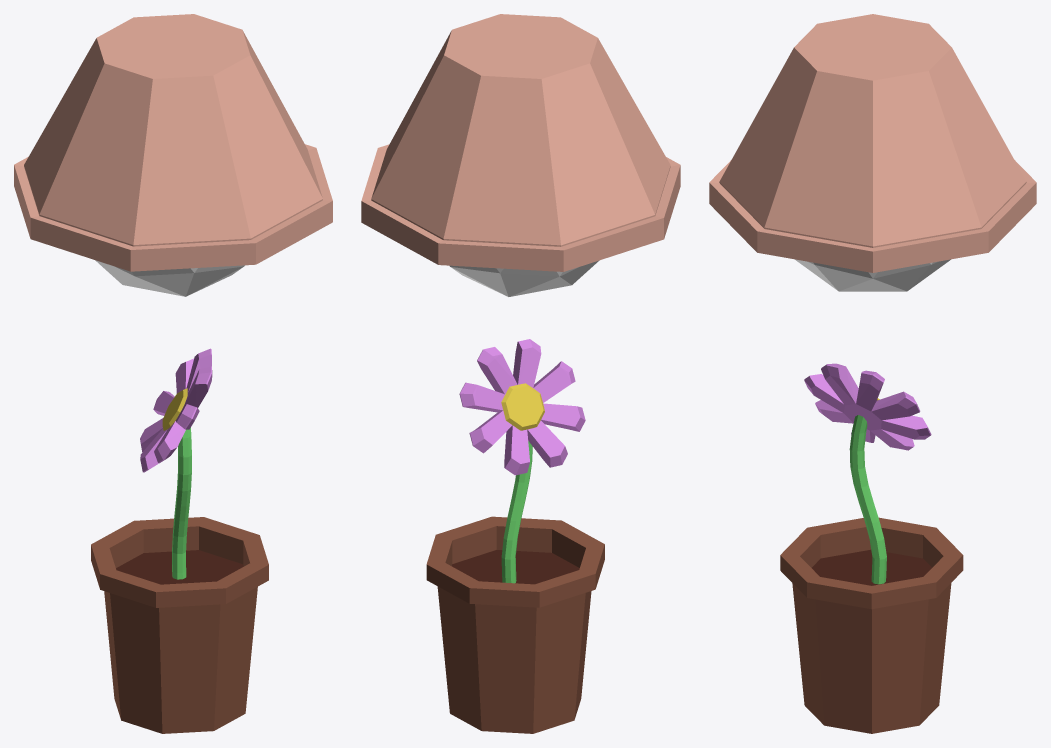
Rendered from Pot.fbx.
The picture shows the model from 3 angles, left to right: view 1: azimuth 30°, elevation 25°; view 2: azimuth 150°, elevation 25°; view 3: azimuth 270°, elevation 25°; orthographic projection.
Parts seen in each view (by area): view 1: Light, Pot, Petals.001, FlowerBody; view 2: Light, Pot, Petals.001, FlowerBody; view 3: Light, Pot, Petals.001, FlowerBody.
Part boxes in pixels (left/top/right/bottom): Light: left=14, top=14, right=332, bottom=296; Pot: left=91, top=517, right=268, bottom=733; Petals.001: left=140, top=348, right=212, bottom=472; FlowerBody: left=172, top=427, right=191, bottom=579; Light: left=361, top=14, right=680, bottom=296; Pot: left=426, top=516, right=604, bottom=733; Petals.001: left=459, top=339, right=585, bottom=475; FlowerBody: left=501, top=441, right=532, bottom=583; Light: left=709, top=14, right=1036, bottom=291; Pot: left=780, top=517, right=963, bottom=733; Petals.001: left=804, top=363, right=931, bottom=450; FlowerBody: left=849, top=415, right=886, bottom=584.
Size of the model in its own units: 57.4 by 127 by 57.4.
